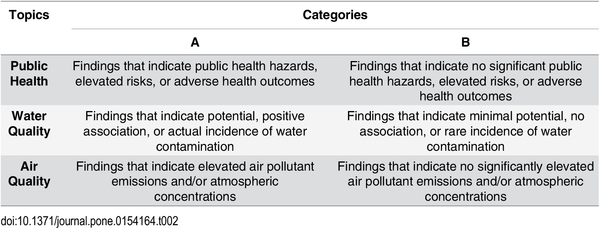fracking table: (1, 1, 600, 206)
